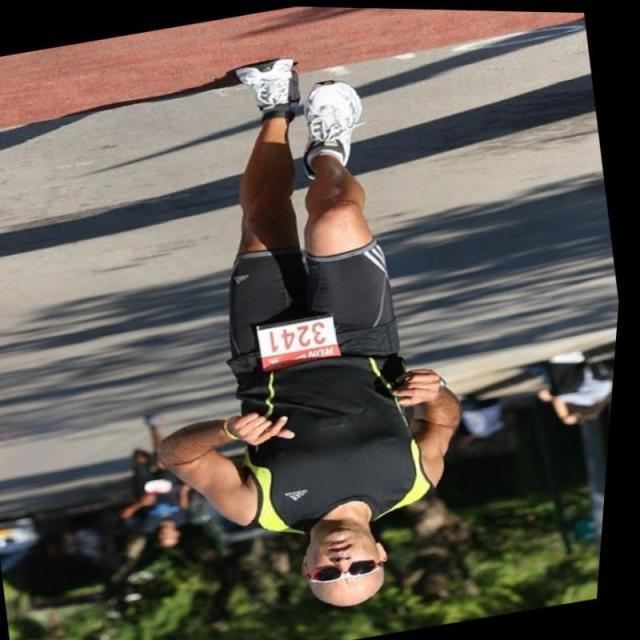dorsal: (247, 306, 354, 372)
